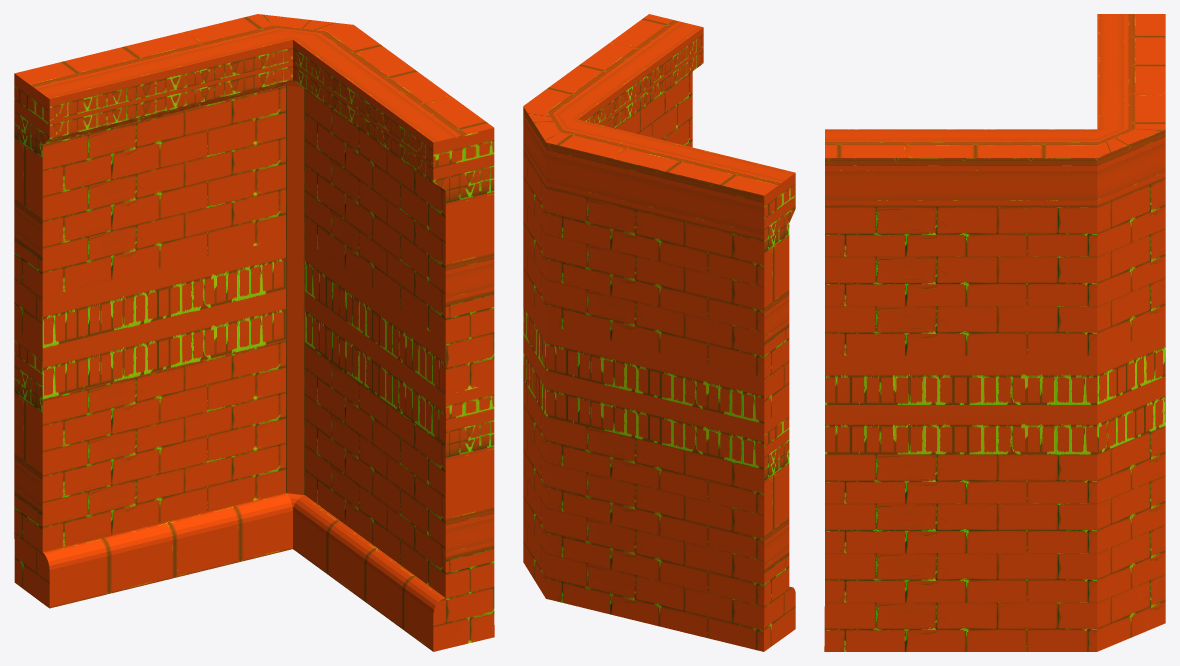
Rendered from Inner_Wall_Corner_ UV Complete.fbx.
3 renders of one model, left to right at view 1: azimuth 30°, elevation 25°; view 2: azimuth 150°, elevation 25°; view 3: azimuth 270°, elevation 25°, orthographic. The views are drawn at different scales.
Visible parts, largest first — view 1: Wall_0023; view 2: Wall_0023; view 3: Wall_0023.
Part boxes in pixels (bbox=[...]): Wall_0023: bbox=[14, 14, 494, 651]; Wall_0023: bbox=[523, 14, 795, 651]; Wall_0023: bbox=[824, 14, 1165, 651].
Bounding box in the file's own units: 250 × 400 × 250.
